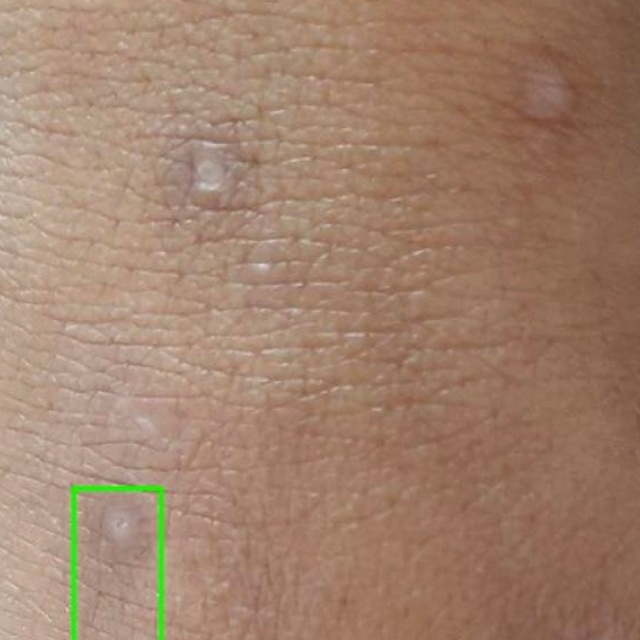Scabies: (73, 488, 161, 639)
